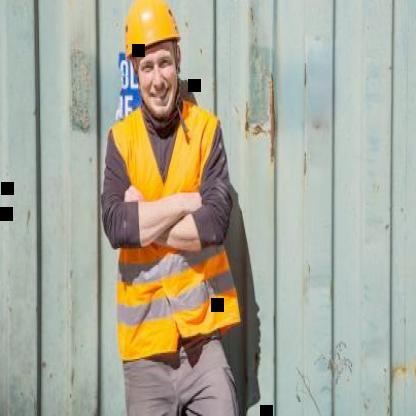helmet: (116, 0, 188, 120)
